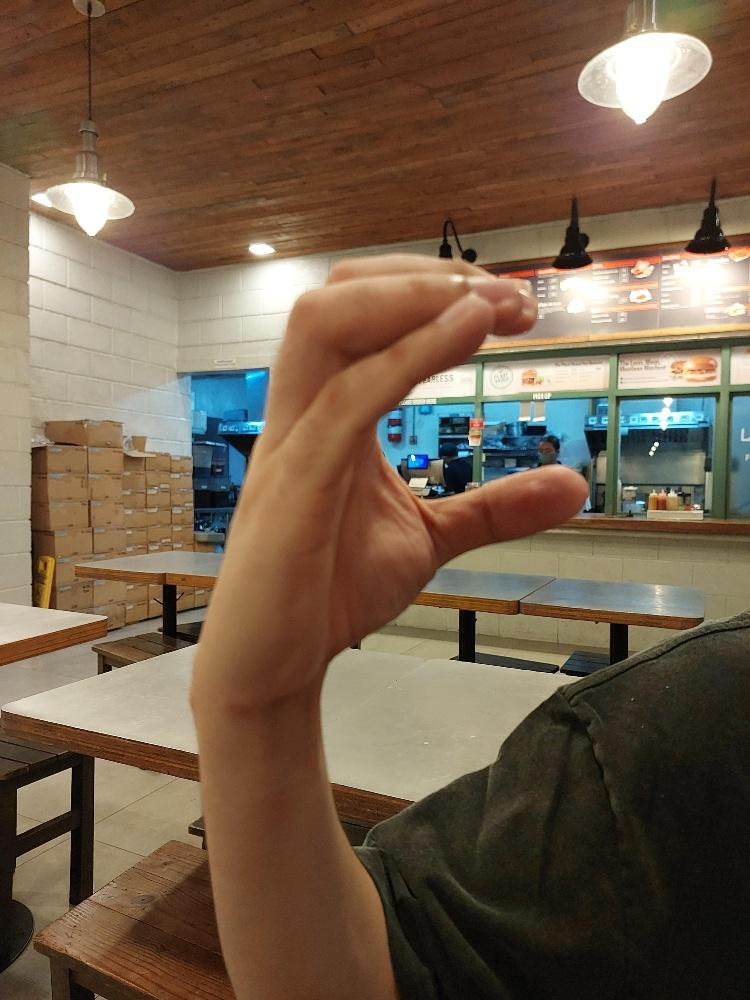c: (200, 250, 591, 715)
